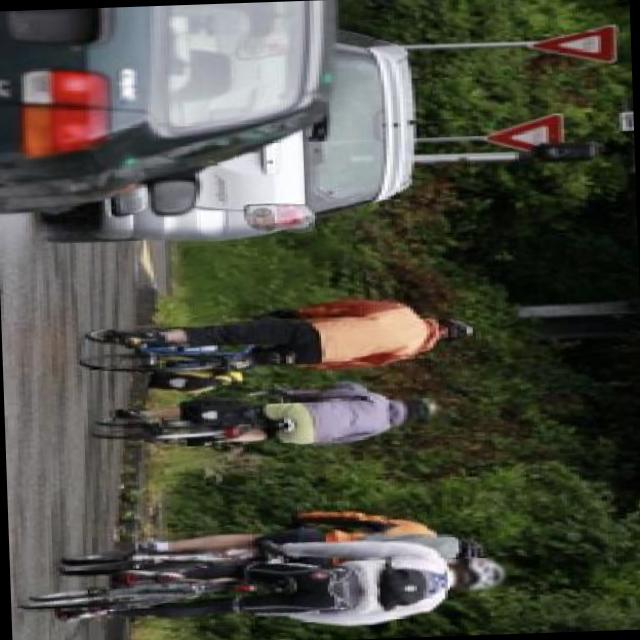With Helmet: (428, 307, 484, 352), (390, 390, 447, 430), (448, 556, 508, 594)
